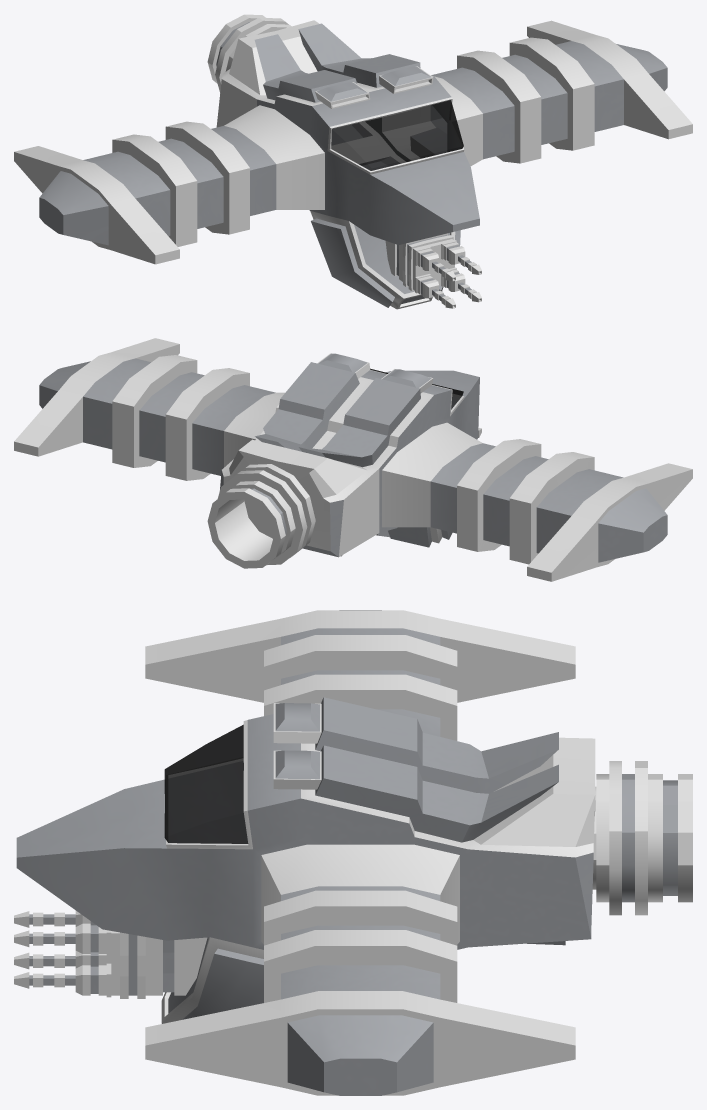
The model's file is CAC.fbx.
3 views of the same model, one above another, from view 1: azimuth 30°, elevation 25°; view 2: azimuth 150°, elevation 25°; view 3: azimuth 270°, elevation 25° (orthographic). The views are drawn at different scales.
Parts seen in each view (by area): view 1: CAC; view 2: CAC; view 3: CAC.
Part boxes in pixels (left/top/right/bottom): CAC: left=14, top=14, right=692, bottom=309; CAC: left=14, top=338, right=692, bottom=581; CAC: left=14, top=610, right=692, bottom=1095.
Bounding box in the file's own units: 8.9 × 2.8 × 5.69.
